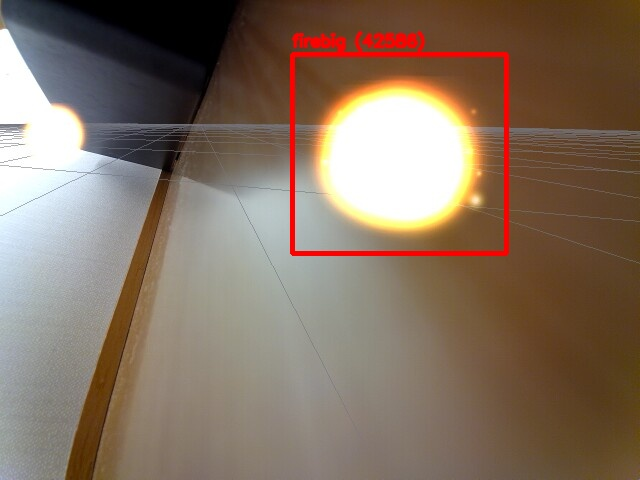firebig: (292, 54, 506, 253)
